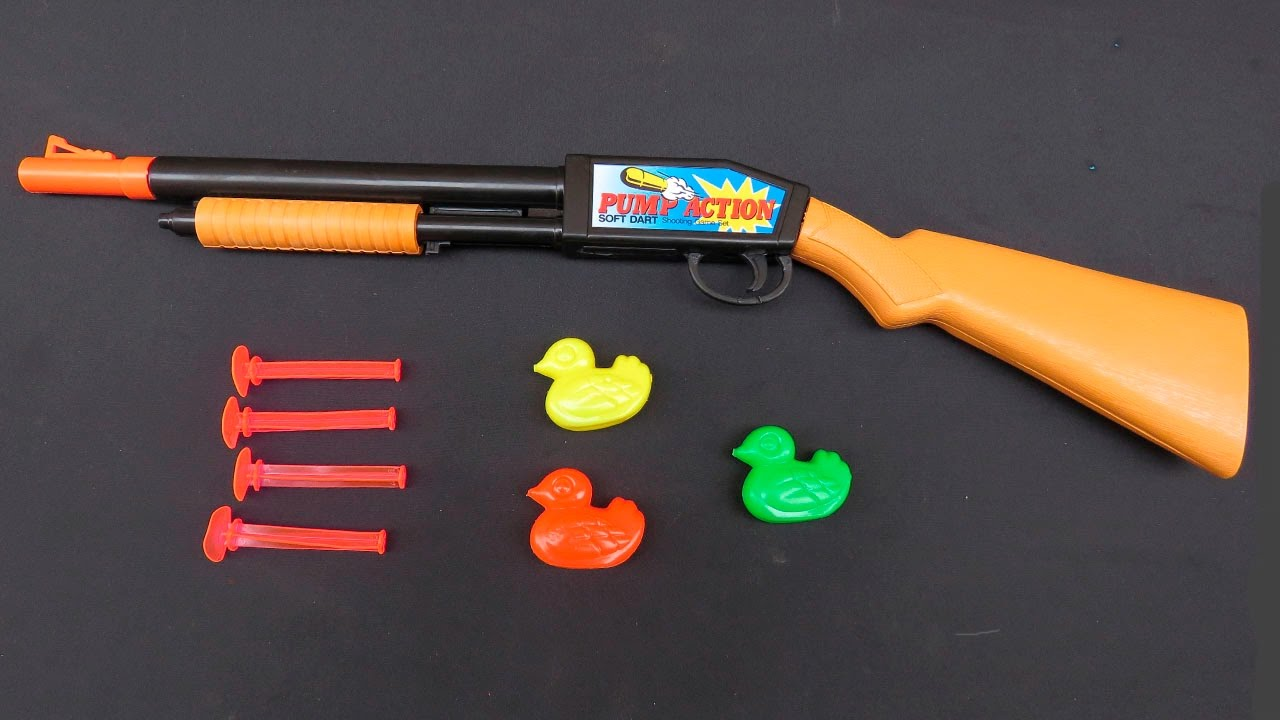Arma Falsa: (16, 136, 1259, 481)
